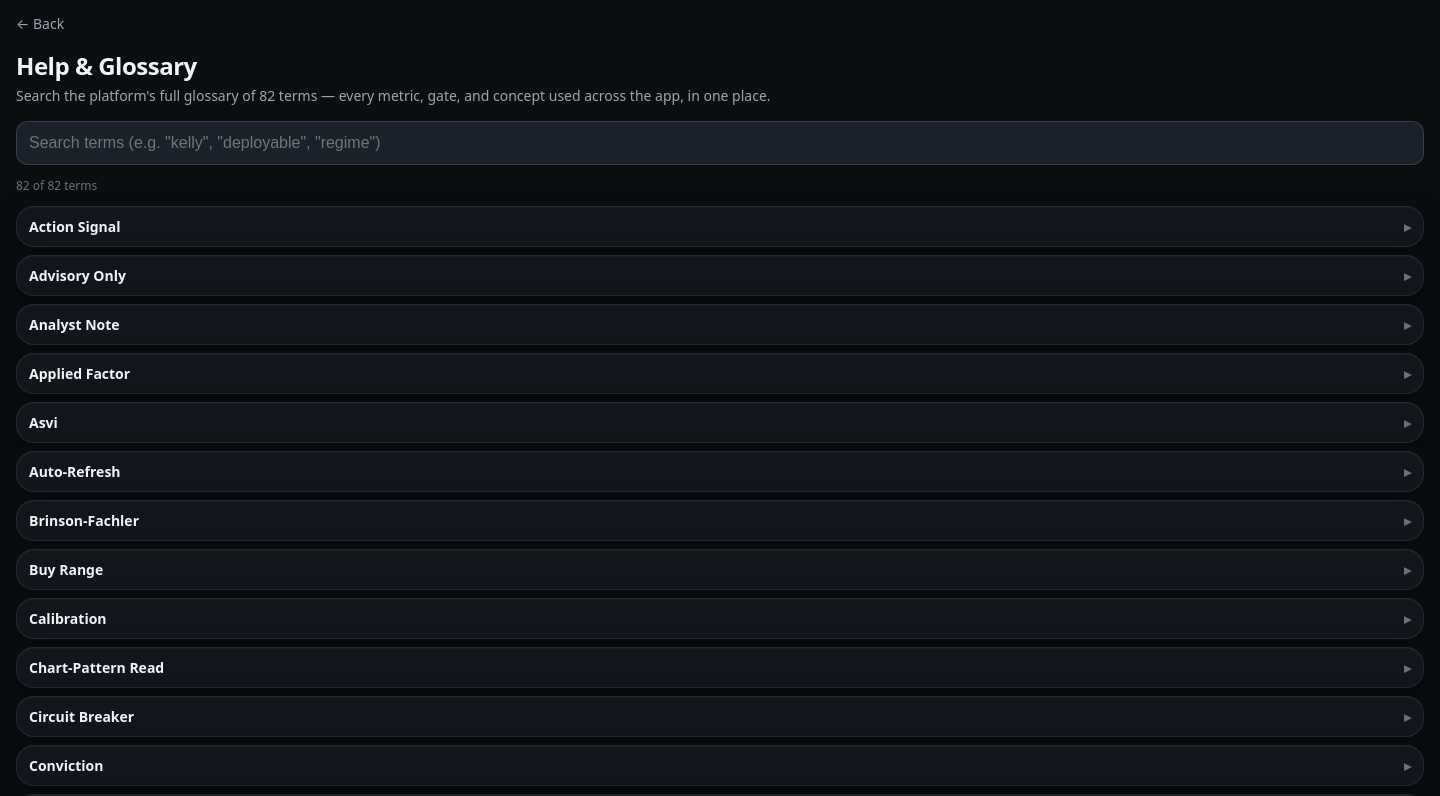
it: Help screen › renders the honest empty state for a query matching nothing, not a fabricated list
Type "zzznomatch" into the search field with test id "help-search" at coordinates (720, 143), box [16,121,1424,165]
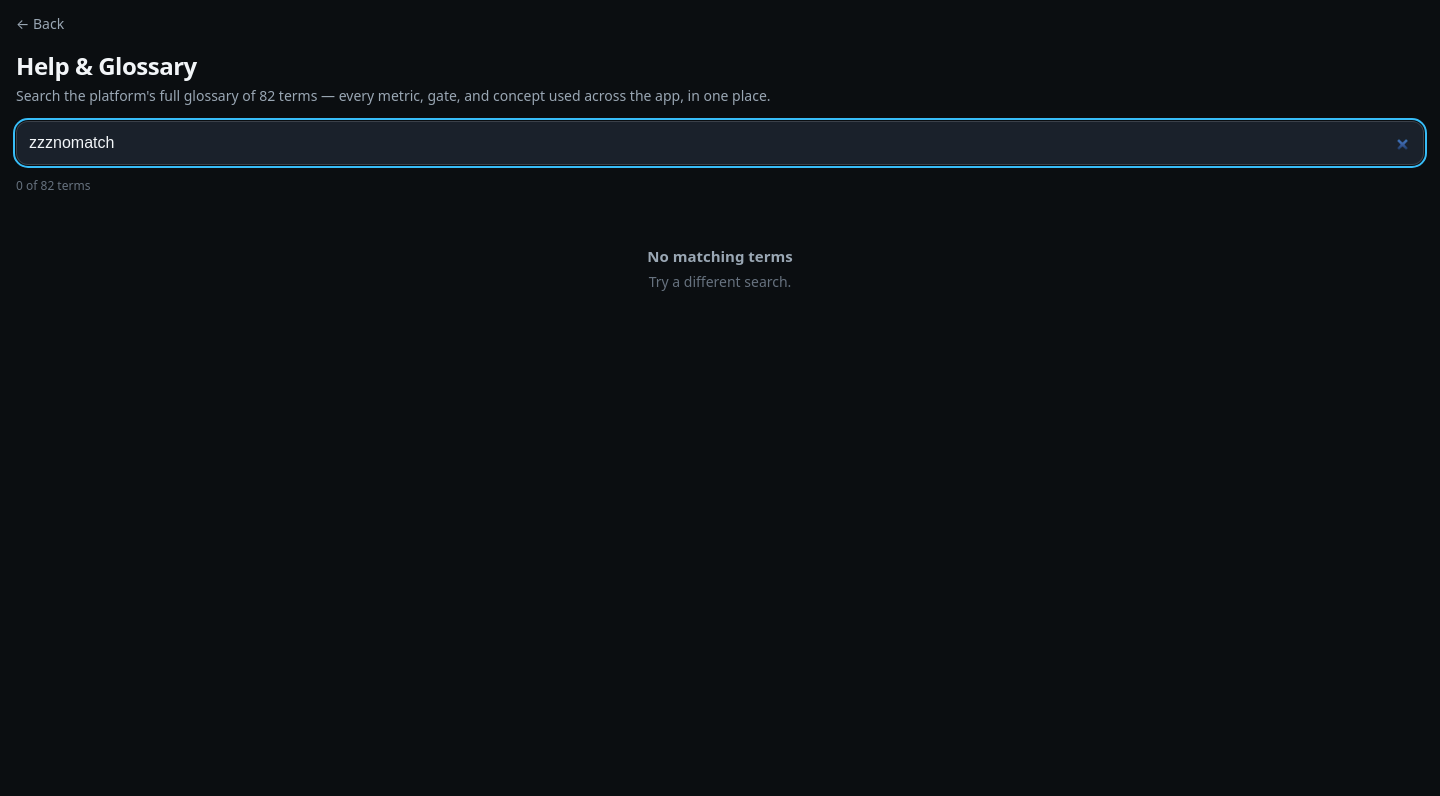
Expected: the element with test id "help-empty" shows "No matching terms", [647,246,793,266]
